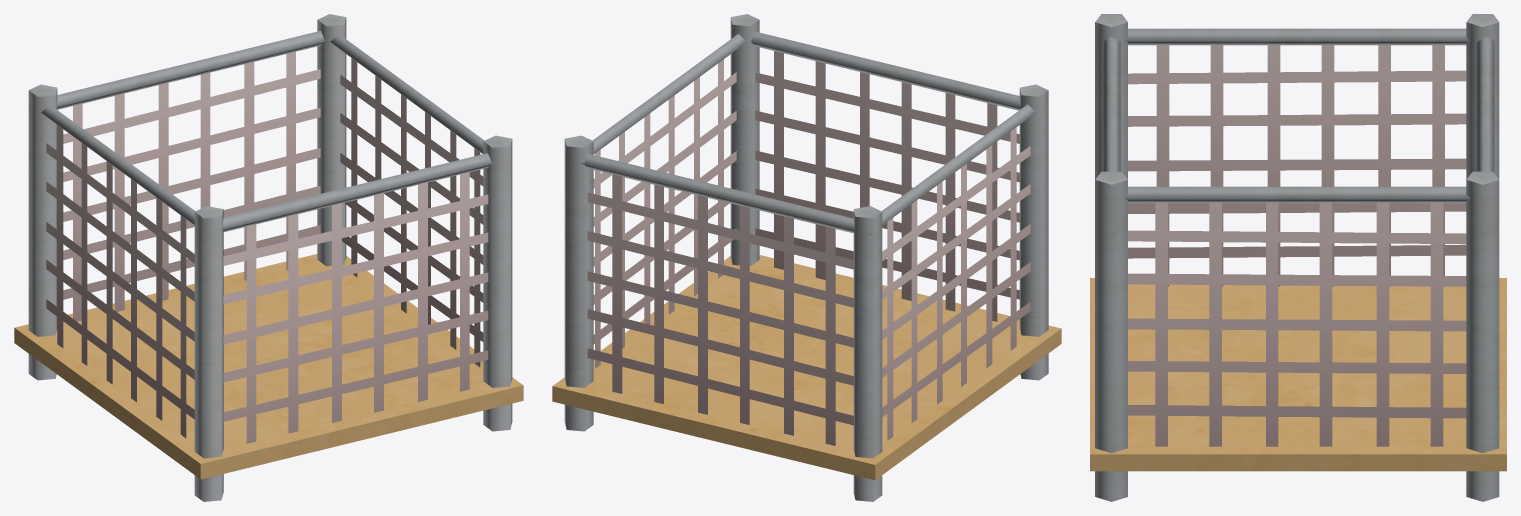
The model's file is Ball_Box_01.fbx.
The picture shows the model from 3 angles, left to right: view 1: azimuth 30°, elevation 25°; view 2: azimuth 150°, elevation 25°; view 3: azimuth 270°, elevation 25°; orthographic projection. The views are drawn at different scales.
Parts seen in each view (by area): view 1: Ball_Box_01; view 2: Ball_Box_01; view 3: Ball_Box_01.
Boxes of the visible parts, x1=… form: Ball_Box_01: x1=14, y1=14, x2=523, y2=501; Ball_Box_01: x1=552, y1=14, x2=1061, y2=501; Ball_Box_01: x1=1090, y1=14, x2=1506, y2=501.
Bounding box in the file's own units: 0.3363 × 0.2824 × 0.3363.
